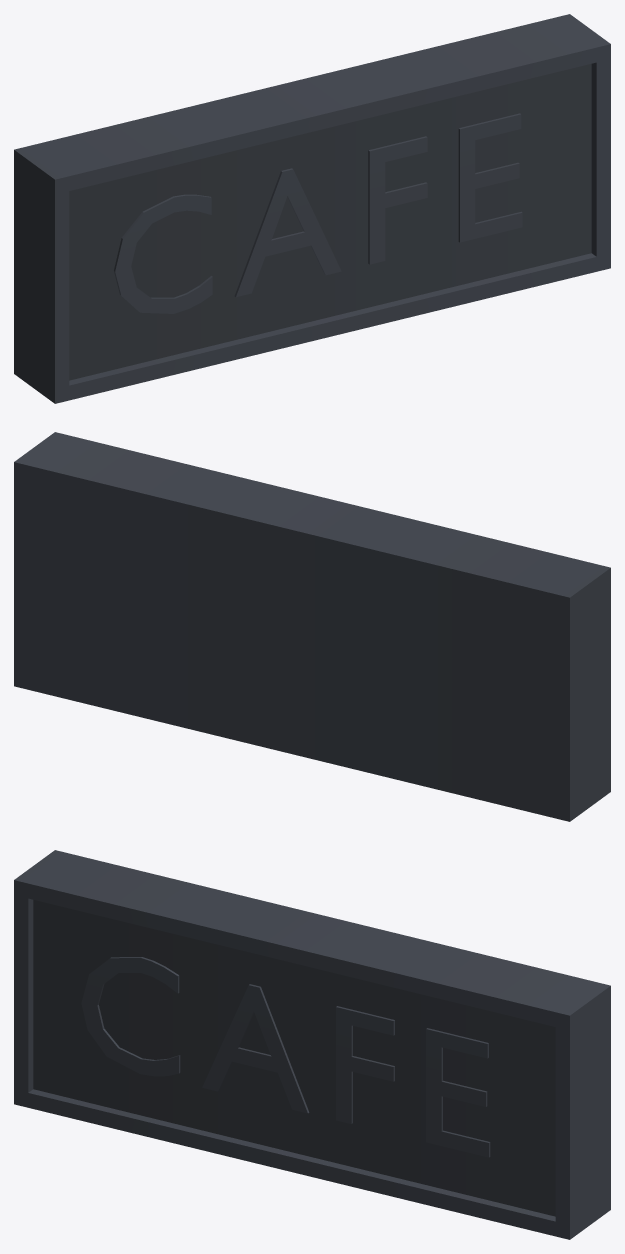
Rendered from Banner_14.fbx.
3 views of the same model, one above another, from view 1: azimuth 30°, elevation 25°; view 2: azimuth 150°, elevation 25°; view 3: azimuth 330°, elevation 25° (orthographic).
Visible parts, largest first — view 1: Banner_14; view 2: Banner_14; view 3: Banner_14.
Boxes of the visible parts, x1,y1,x2,y2 form: Banner_14: (14,14,610,403); Banner_14: (14,432,610,821); Banner_14: (14,850,610,1239).
Bounding box in the file's own units: 2.19 × 0.8434 × 0.2801.
